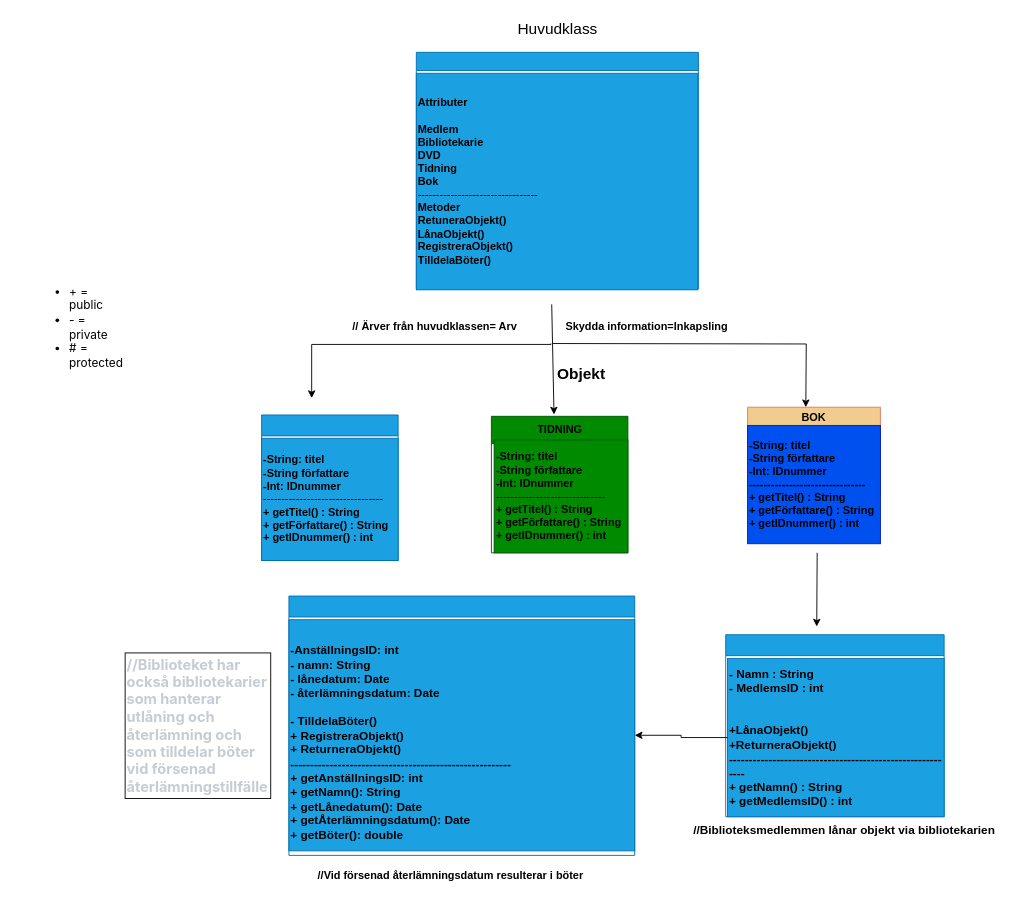
This 1023x905 diagram has some shape labels left out. The box of each missing label's shape, as (x1, y1, x2, y2) in pixels:
BIBLIOTEKARIE: (288, 595, 635, 855)
BIBLIOTEKSMEDLEM: (725, 634, 944, 817)
Class BIBLIOTEKSSYSTEM: (415, 51, 698, 289)
DVD: (261, 414, 398, 561)
